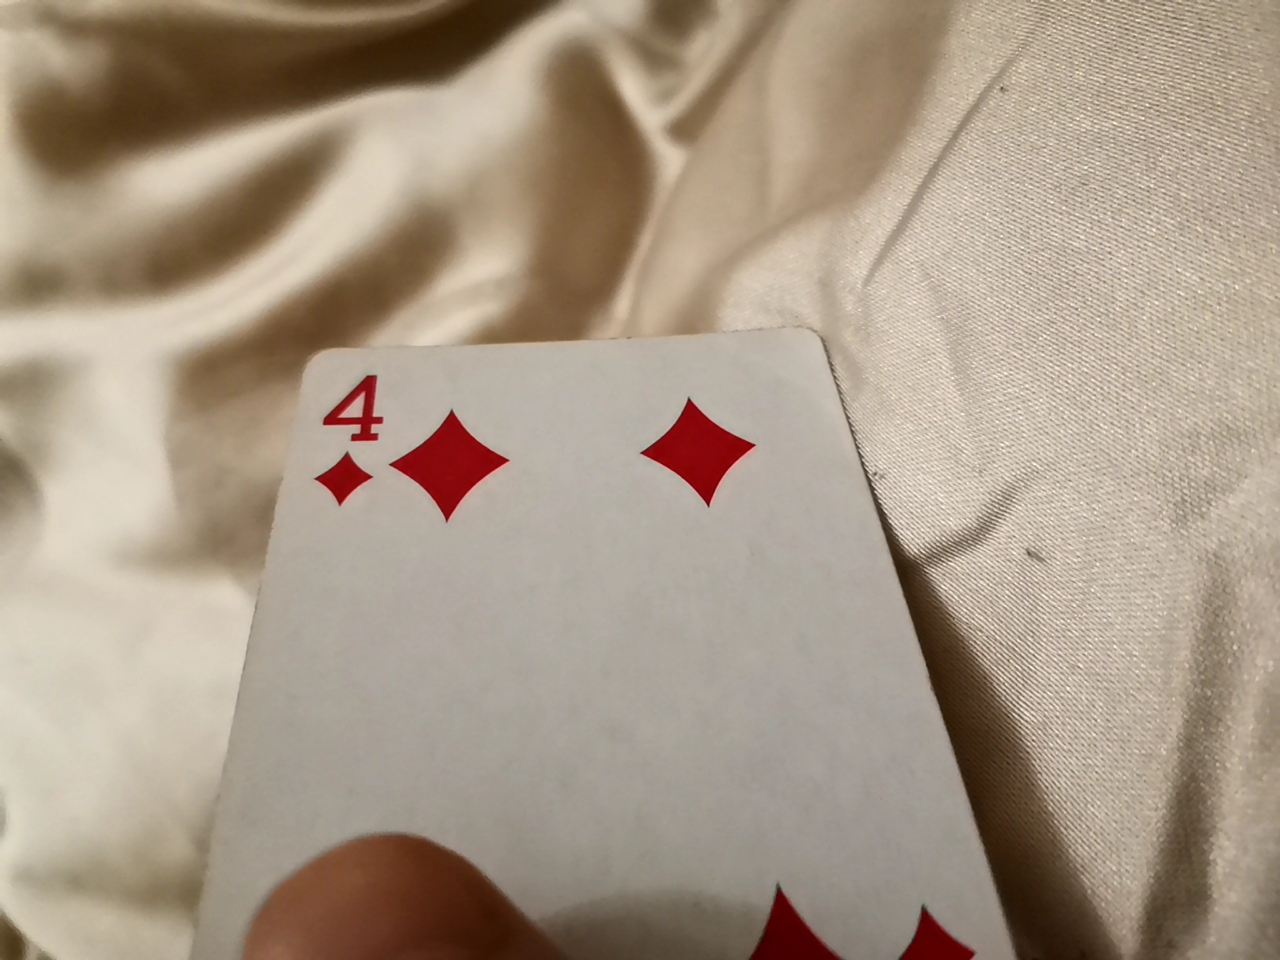fk 4: (227, 285, 1026, 960)
